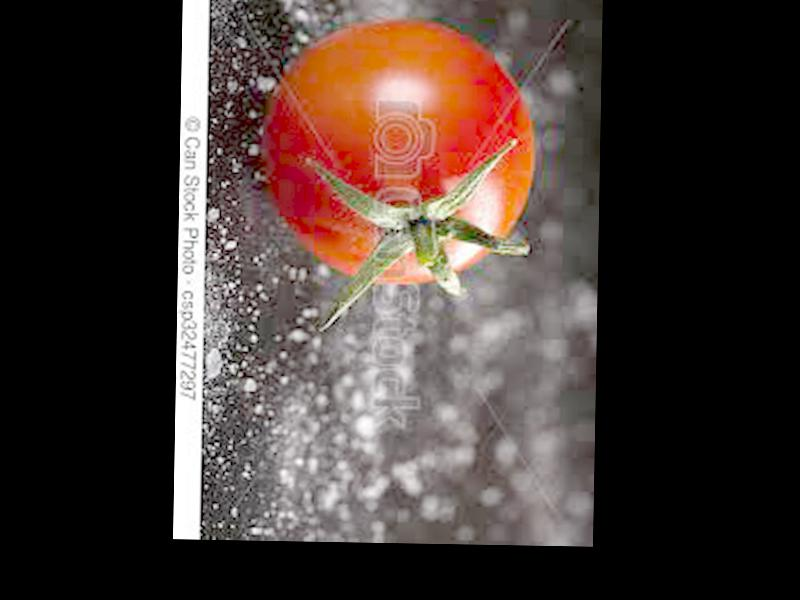Tomato: (263, 16, 537, 287)
